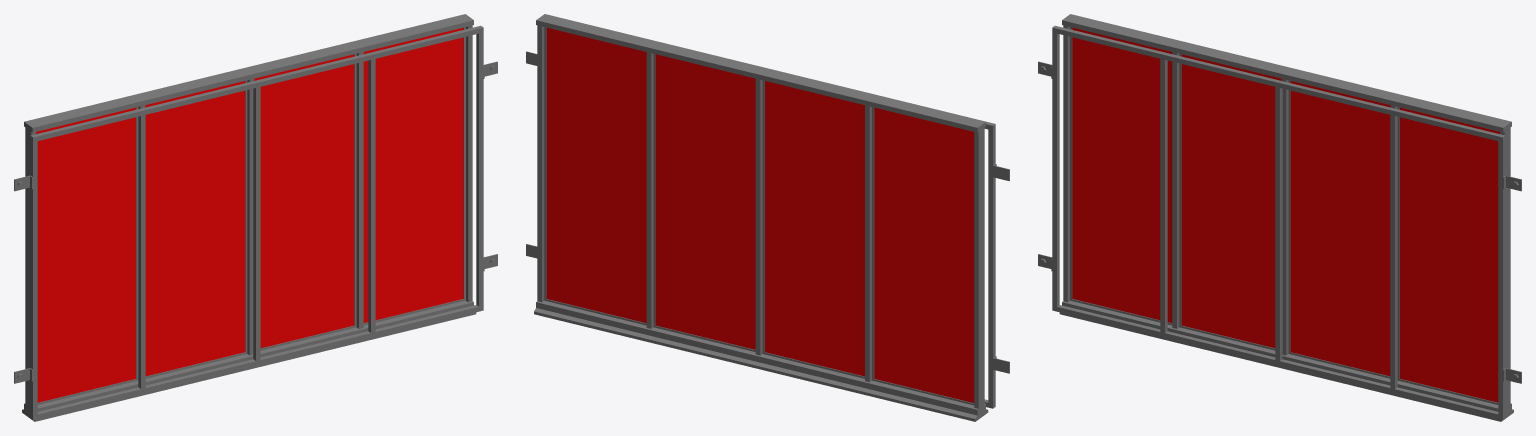
Rendered from Window04.fbx.
The picture shows the model from 3 angles, left to right: view 1: azimuth 30°, elevation 25°; view 2: azimuth 150°, elevation 25°; view 3: azimuth 330°, elevation 25°; orthographic projection.
Parts seen in each view (by area): view 1: Window04; view 2: Window04; view 3: Window04.
Part boxes in pixels (<box>): Window04: <box>14,14,497,421</box>; Window04: <box>526,14,1009,421</box>; Window04: <box>1038,14,1521,421</box>.
Size of the model in its own units: 263 by 152 by 14.75.
